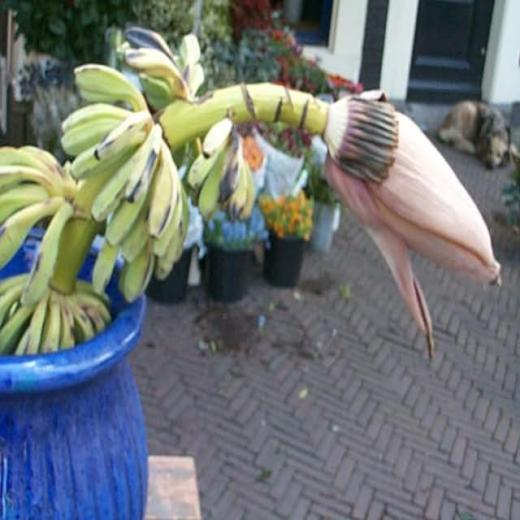Banana: (0, 25, 254, 353), (203, 118, 232, 156)
